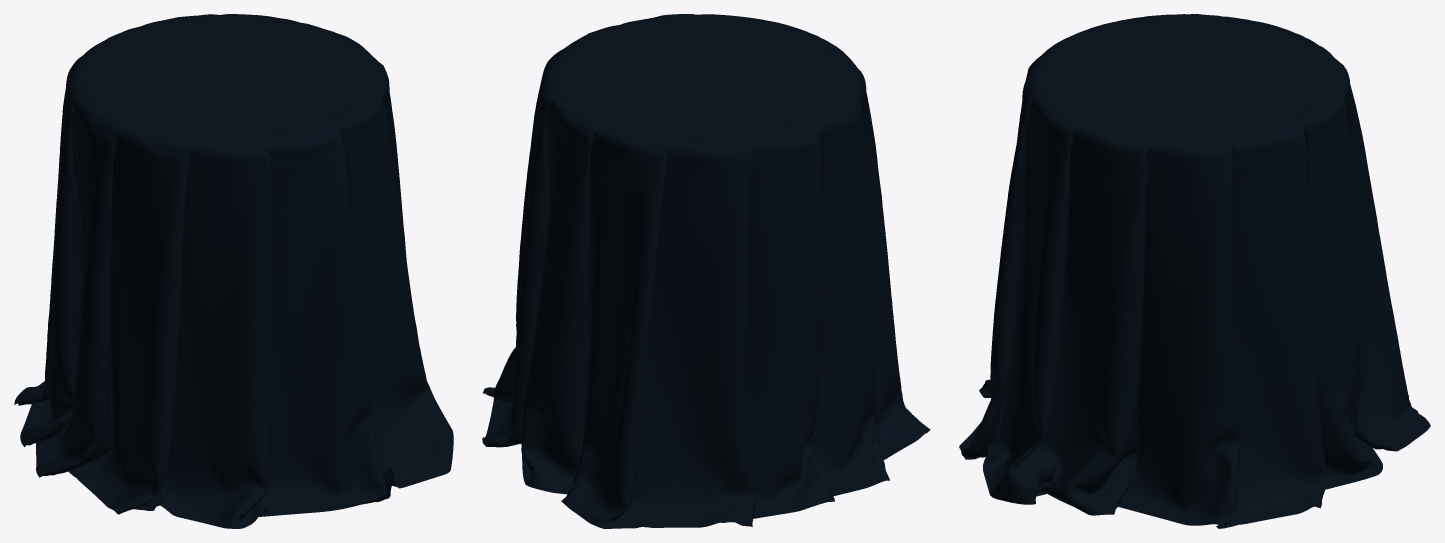
File: Table.FBX
The picture shows the model from 3 angles, left to right: view 1: azimuth 30°, elevation 25°; view 2: azimuth 150°, elevation 25°; view 3: azimuth 270°, elevation 25°; orthographic projection.
Parts seen in each view (by area): view 1: Pattern2D_868, Pattern2D_860; view 2: Pattern2D_868, Pattern2D_860; view 3: Pattern2D_868, Pattern2D_860.
Part boxes in pixels (box(x1,y1,x2,y2)): Pattern2D_868: box(14, 14, 453, 528); Pattern2D_860: box(68, 14, 383, 151); Pattern2D_868: box(482, 25, 930, 528); Pattern2D_860: box(545, 14, 862, 150); Pattern2D_868: box(959, 57, 1430, 528); Pattern2D_860: box(1027, 14, 1344, 147).
Bounding box in the file's own units: 578 × 504 × 603.
